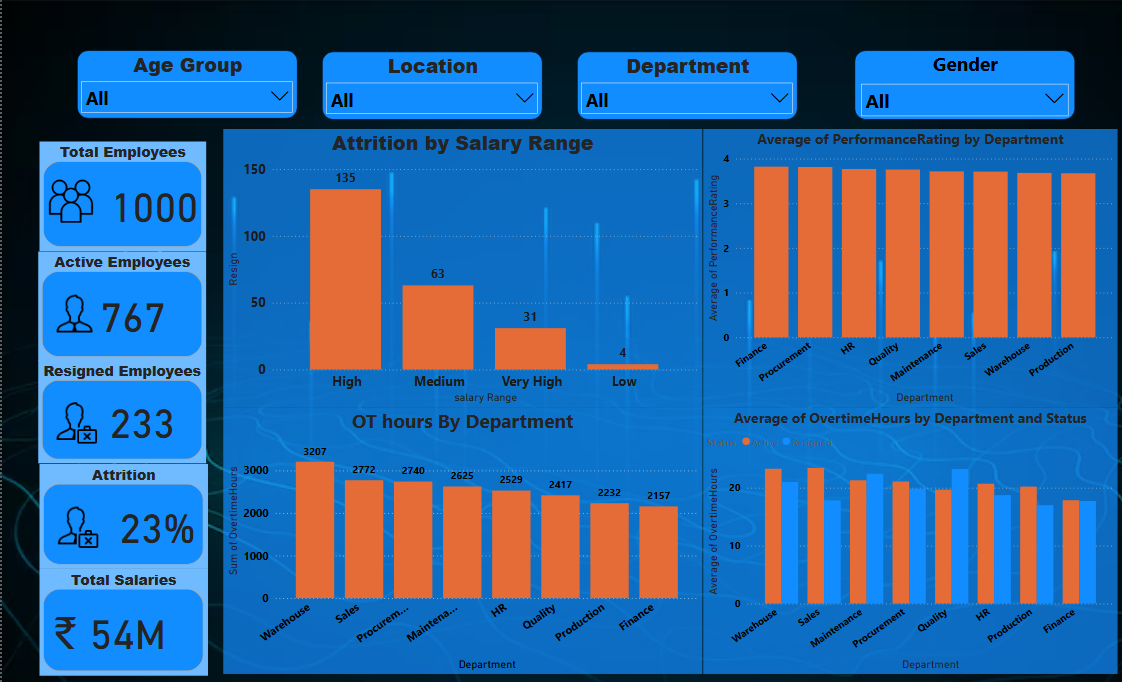

This screenshot's page, from the dashboard's own definition file:
{"tool":"powerbi","page":{"name":"Page 1","canvas":[1500,982],"ordinal":0},"visuals":[{"type":"slicer","title":"Department","fields":{"Values":["Employees.Department"]},"box":[767.6,69.3,294.2,91.3],"z":0},{"type":"cardVisual","title":"Total Employees","fields":{"Data":["Employees.total employees"]},"box":[50.7,189.4,222.5,146.1],"z":0,"group":"g1"},{"type":"slicer","title":"Gender","fields":{"Values":["Employees.Gender"]},"box":[1137.9,67.6,294.2,93],"z":1000},{"type":"cardVisual","title":"Active Employees","fields":{"Data":["Employees.Active"]},"box":[49,335.5,224.2,146.1],"z":1000,"group":"g1"},{"type":"clusteredColumnChart","title":"Attrition by Salary Range","fields":{"Y":["Employees.Resign"],"Category":["Employees.salary Range"]},"box":[295.9,174.2,639.1,372],"z":2000},{"type":"cardVisual","title":"Attrition","fields":{"Data":["Employees.Attirition"]},"box":[51.3,619.5,224.9,140.3],"z":2000,"group":"g1"},{"type":"cardVisual","title":"Resigned Employees","fields":{"Data":["Employees.Resign"]},"box":[49,481.5,224.2,137.6],"z":3000,"group":"g1"},{"type":"clusteredColumnChart","title":"OT hours By Department","fields":{"Category":["Employees.Department"],"Y":["select","Sum(Employees.OvertimeHours)"]},"box":[295.9,546.1,639.1,355.1],"z":3000},{"type":"clusteredColumnChart","fields":{"Category":["Employees.Department"],"Y":["Avg(Employees.PerformanceRating)"]},"box":[935,174.2,552.9,372],"z":4000},{"type":"clusteredColumnChart","fields":{"Category":["Employees.Department"],"Y":["Avg(Employees.OvertimeHours)"],"Series":["Employees.Status"]},"box":[935,546.1,552.9,355.1],"z":5000},{"type":"group","id":"g1","title":"Group 1","box":[49,189.4,226.6,711.8],"z":6000},{"type":"slicer","title":"Location","fields":{"Values":["Employees.Location"]},"box":[427.8,69.3,294.2,91.3],"z":7000},{"type":"slicer","title":"Age Group","fields":{"Values":["Employees.age group"]},"box":[99.8,67.6,294.2,91.3],"z":8000},{"type":"cardVisual","title":"Total Salaries","fields":{"Data":["Employees.Total Salary"]},"box":[51.3,759.8,224.9,142],"z":10001,"group":"g1"}]}

Visuals, with their boxes on the page's 1500x982 design canvas (x1, y1, x2, y2). These are canvas units, not pixel positions in the 1122x682 screenshot, which may show the page scaled, cropped or inside an application window:
"Department" slicer: {"x1": 768, "y1": 69, "x2": 1062, "y2": 161}
"Total Employees" cardVisual: {"x1": 51, "y1": 189, "x2": 273, "y2": 336}
"Gender" slicer: {"x1": 1138, "y1": 68, "x2": 1432, "y2": 161}
"Active Employees" cardVisual: {"x1": 49, "y1": 336, "x2": 273, "y2": 482}
"Attrition by Salary Range" clusteredColumnChart: {"x1": 296, "y1": 174, "x2": 935, "y2": 546}
"Attrition" cardVisual: {"x1": 51, "y1": 620, "x2": 276, "y2": 760}
"Resigned Employees" cardVisual: {"x1": 49, "y1": 482, "x2": 273, "y2": 619}
"OT hours By Department" clusteredColumnChart: {"x1": 296, "y1": 546, "x2": 935, "y2": 901}
clusteredColumnChart - Employees.Department x Avg(Employees.PerformanceRating): {"x1": 935, "y1": 174, "x2": 1488, "y2": 546}
clusteredColumnChart - Employees.Department x Avg(Employees.OvertimeHours): {"x1": 935, "y1": 546, "x2": 1488, "y2": 901}
"Group 1" group: {"x1": 49, "y1": 189, "x2": 276, "y2": 901}
"Location" slicer: {"x1": 428, "y1": 69, "x2": 722, "y2": 161}
"Age Group" slicer: {"x1": 100, "y1": 68, "x2": 394, "y2": 159}
"Total Salaries" cardVisual: {"x1": 51, "y1": 760, "x2": 276, "y2": 902}
